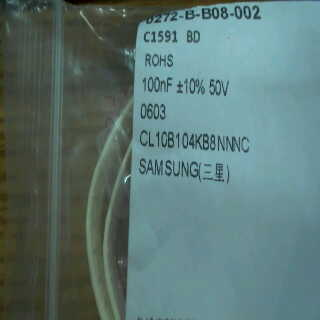100nF: (140, 73, 174, 98)
